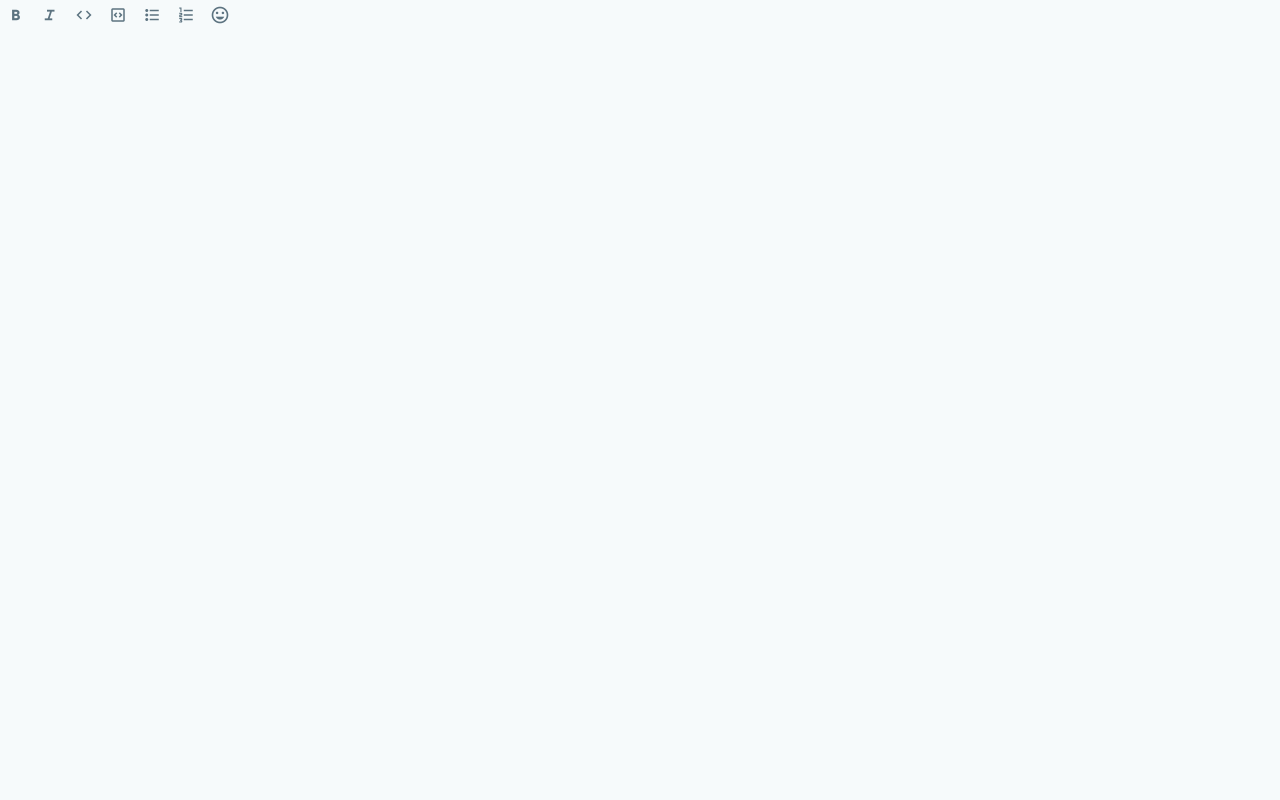
ComposerToolbar — keyboard accessibility › Escape closes emoji picker and returns focus to emoji button
Click the button with test id "toolbar-emoji-btn". click: x=220, y=15
box: [204,0,236,30]
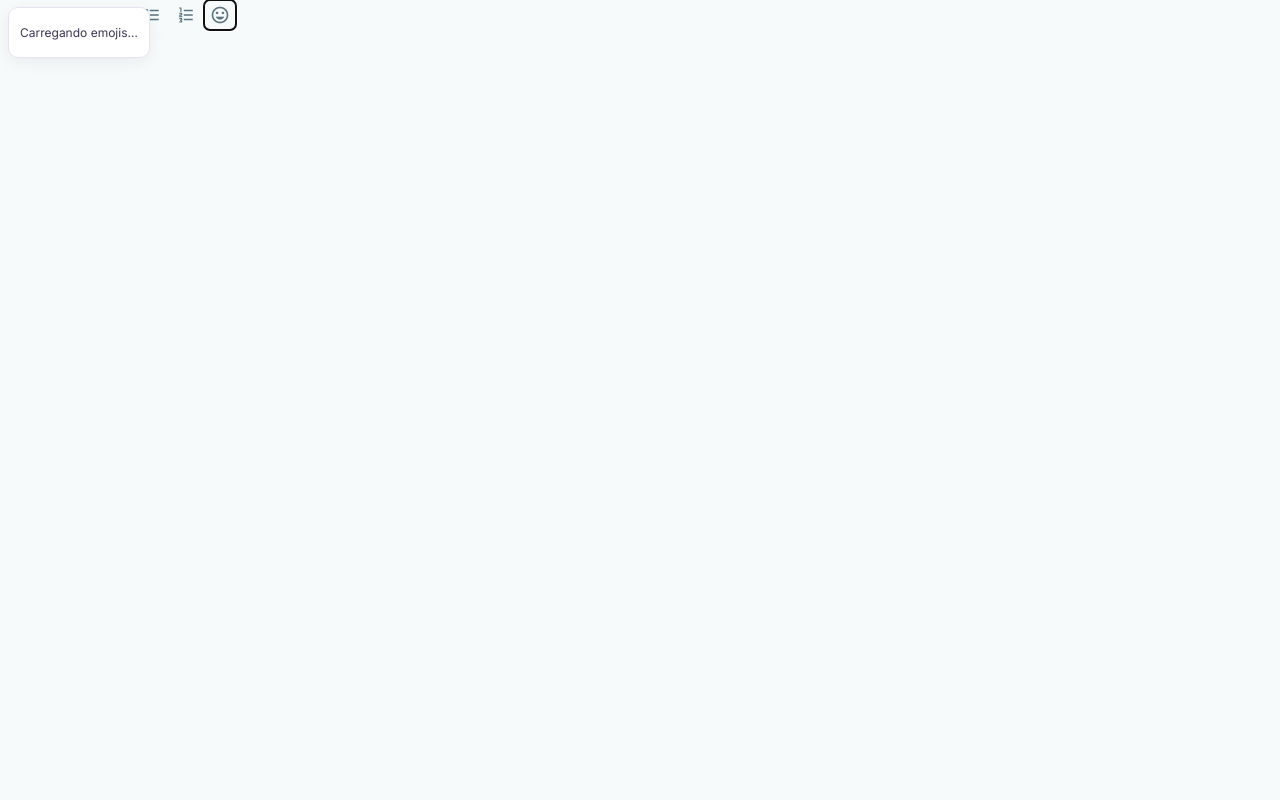
Expected: the dialog is shown, [8,7,150,58]
Press Escape
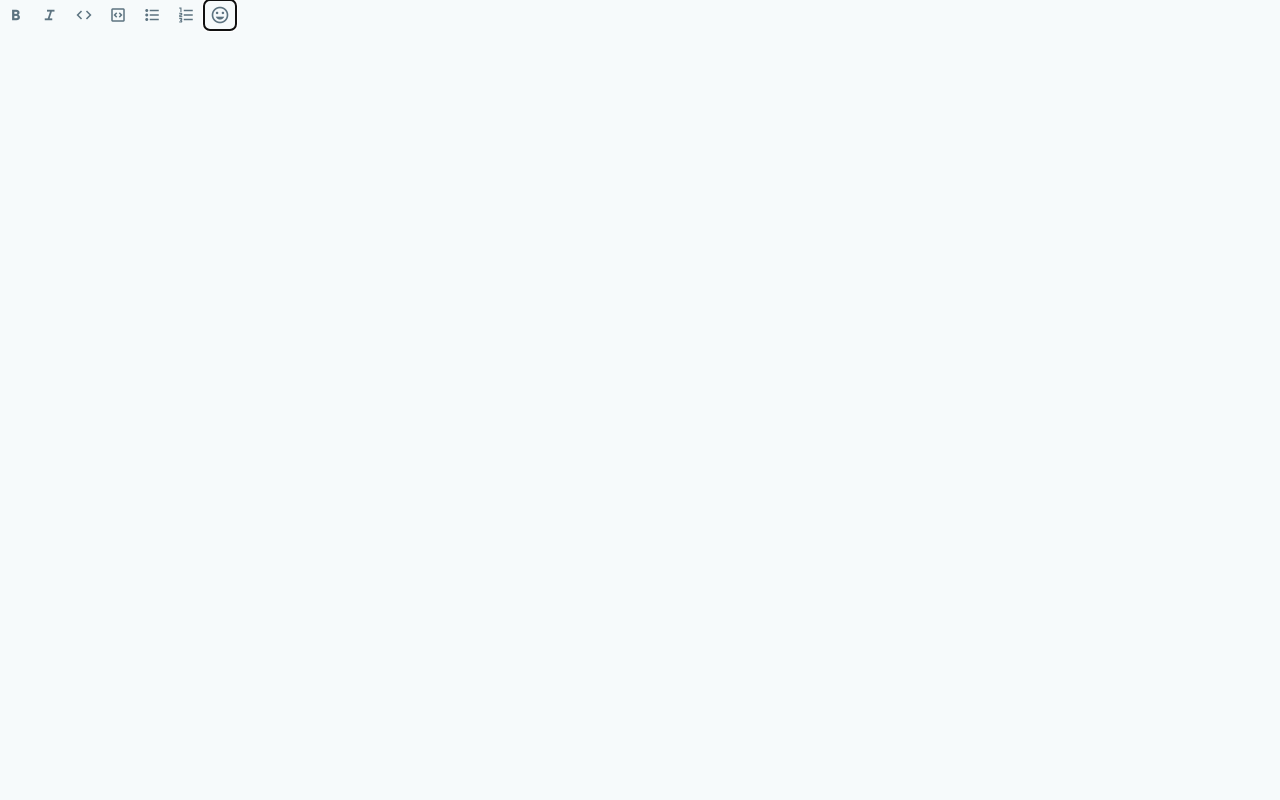
Expected: the dialog is gone
